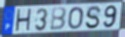3: (32, 8, 50, 32)
9: (102, 4, 118, 29)
B: (49, 7, 68, 31)
H: (14, 8, 33, 34)
O: (67, 6, 85, 30)
S: (85, 5, 103, 30)
